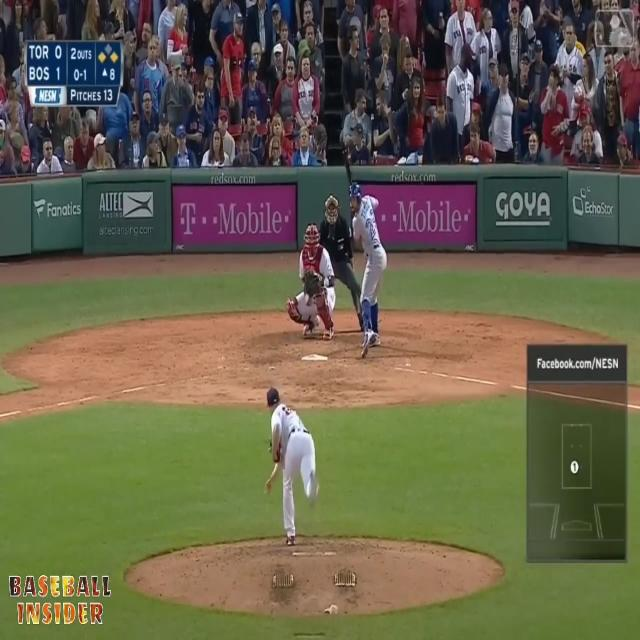baseball: (305, 293, 309, 302)
